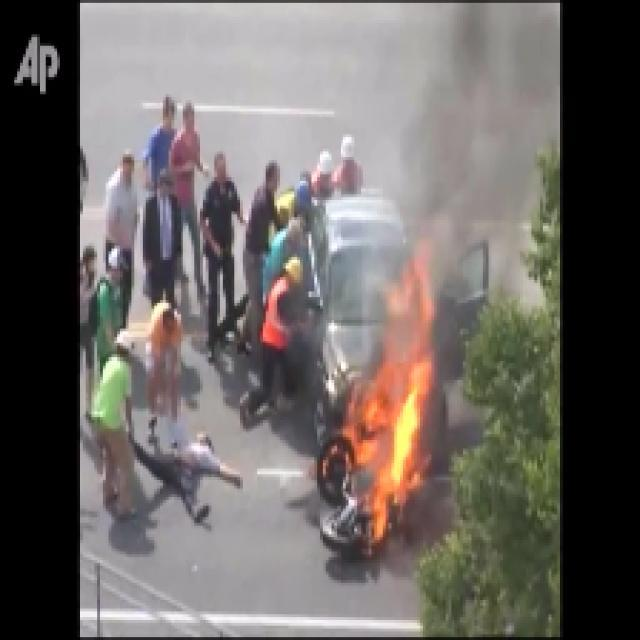Smoke: (392, 2, 537, 272)
